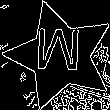M_S: (35, 29, 85, 82)
